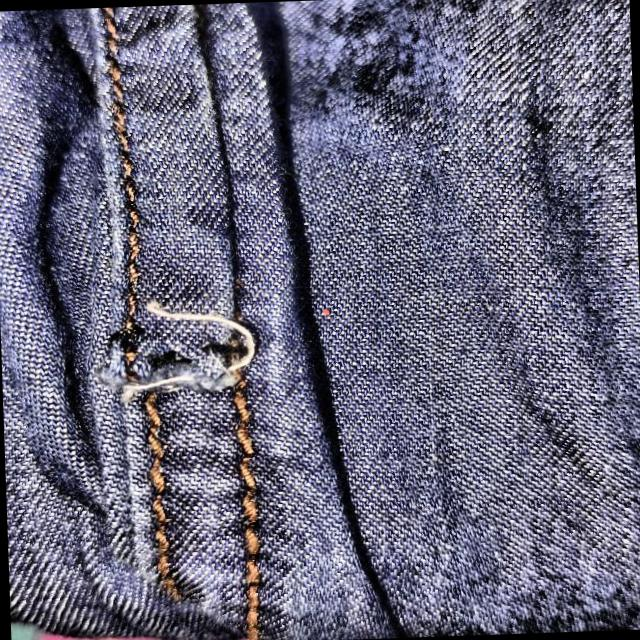gray stitch: (83, 282, 317, 407)
